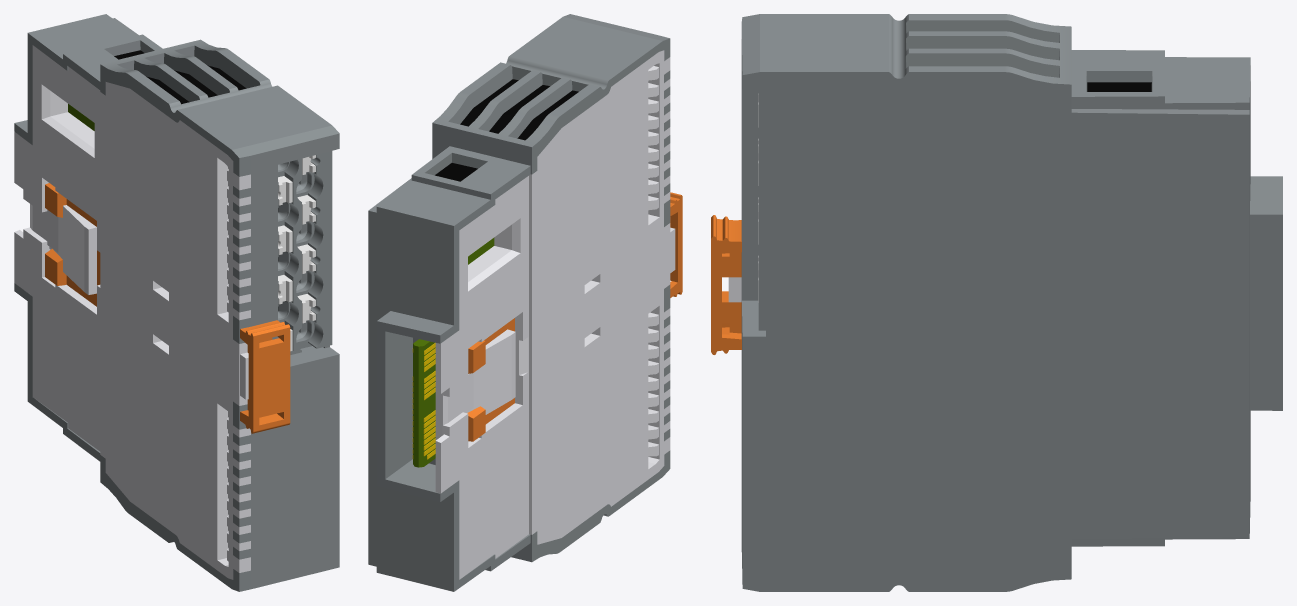
File: AXL SE AI4 U 0-10.obj
3 renders of one model, left to right at view 1: azimuth 30°, elevation 25°; view 2: azimuth 150°, elevation 25°; view 3: azimuth 270°, elevation 25°, orthographic. The views are drawn at different scales.
Visible parts, largest first — view 1: 1088104_1; view 2: 1088104_1; view 3: 1088104_1.
Part boxes in pixels (x1,y1,x2,y2): 1088104_1: (14,14,339,591); 1088104_1: (368,14,682,591); 1088104_1: (711,14,1282,591).
Bounding box in the file's own units: 14.9 × 62.2 × 62.
